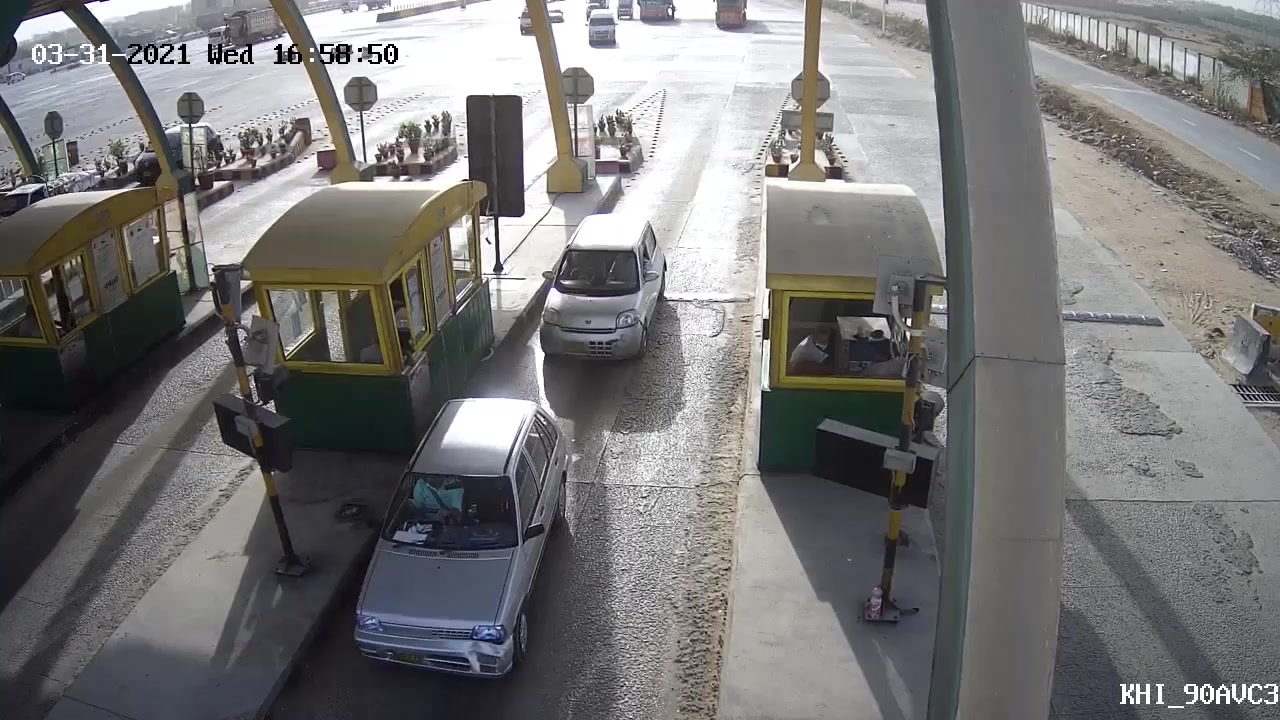F1: (342, 395, 578, 687), (524, 206, 676, 373)
